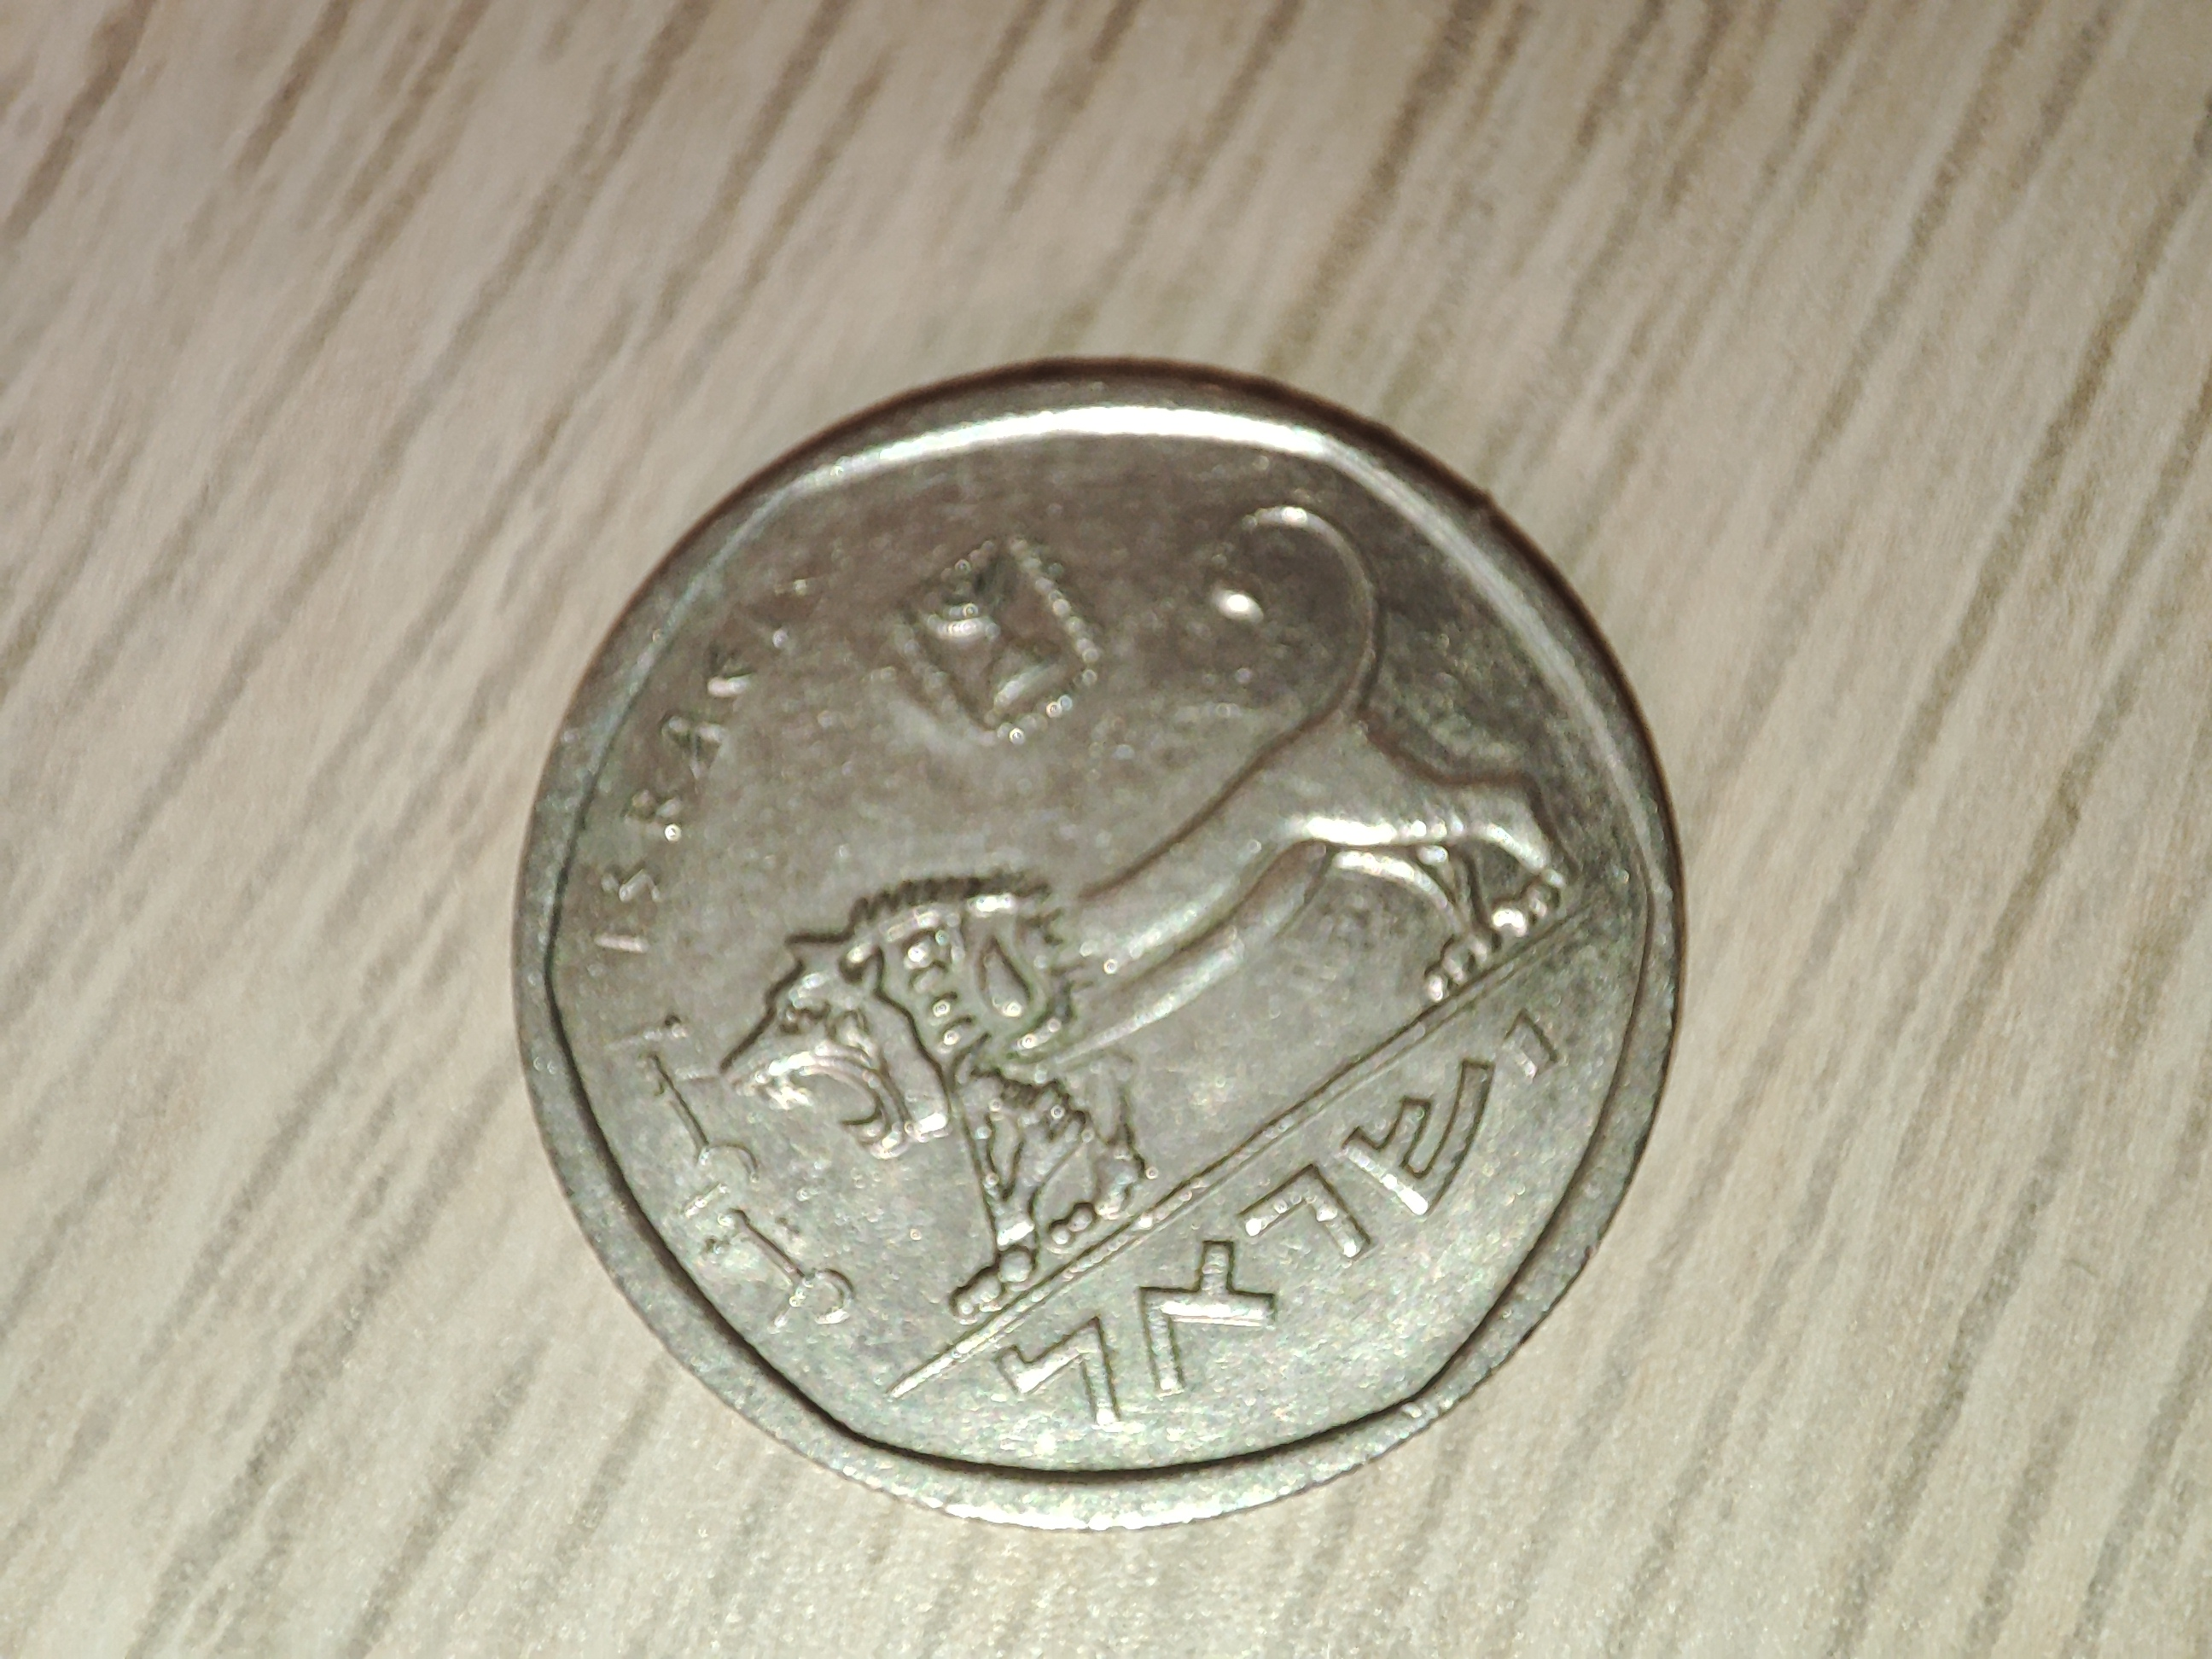1/2 old sheqel: (507, 355, 1696, 1540)
